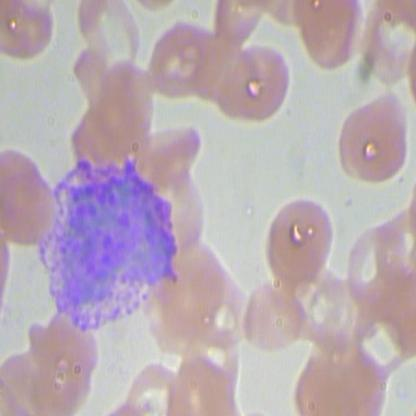RBC: (291, 340, 395, 415), (328, 89, 407, 183), (259, 192, 337, 286), (1, 144, 62, 259), (285, 1, 367, 74), (238, 273, 307, 358), (296, 270, 365, 355), (341, 217, 410, 302), (229, 37, 298, 122), (205, 37, 274, 122), (172, 22, 241, 107), (144, 16, 213, 101), (347, 290, 415, 375), (71, 1, 144, 74), (96, 54, 152, 149), (127, 117, 203, 186), (171, 348, 237, 415), (116, 348, 182, 415), (1, 1, 66, 67)
WBC: (27, 159, 180, 330)
